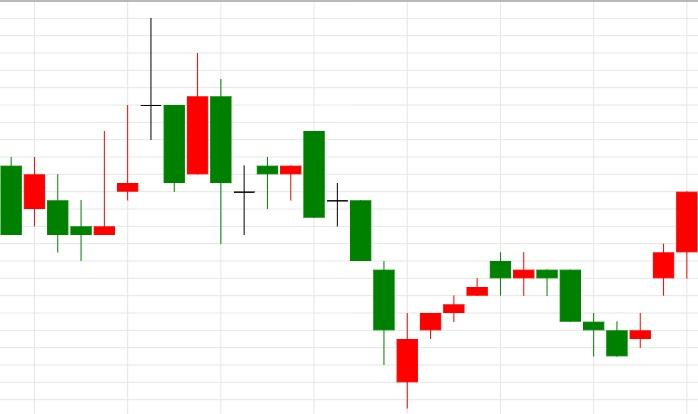three_white_soldiers_rise: (304, 131, 465, 408)
